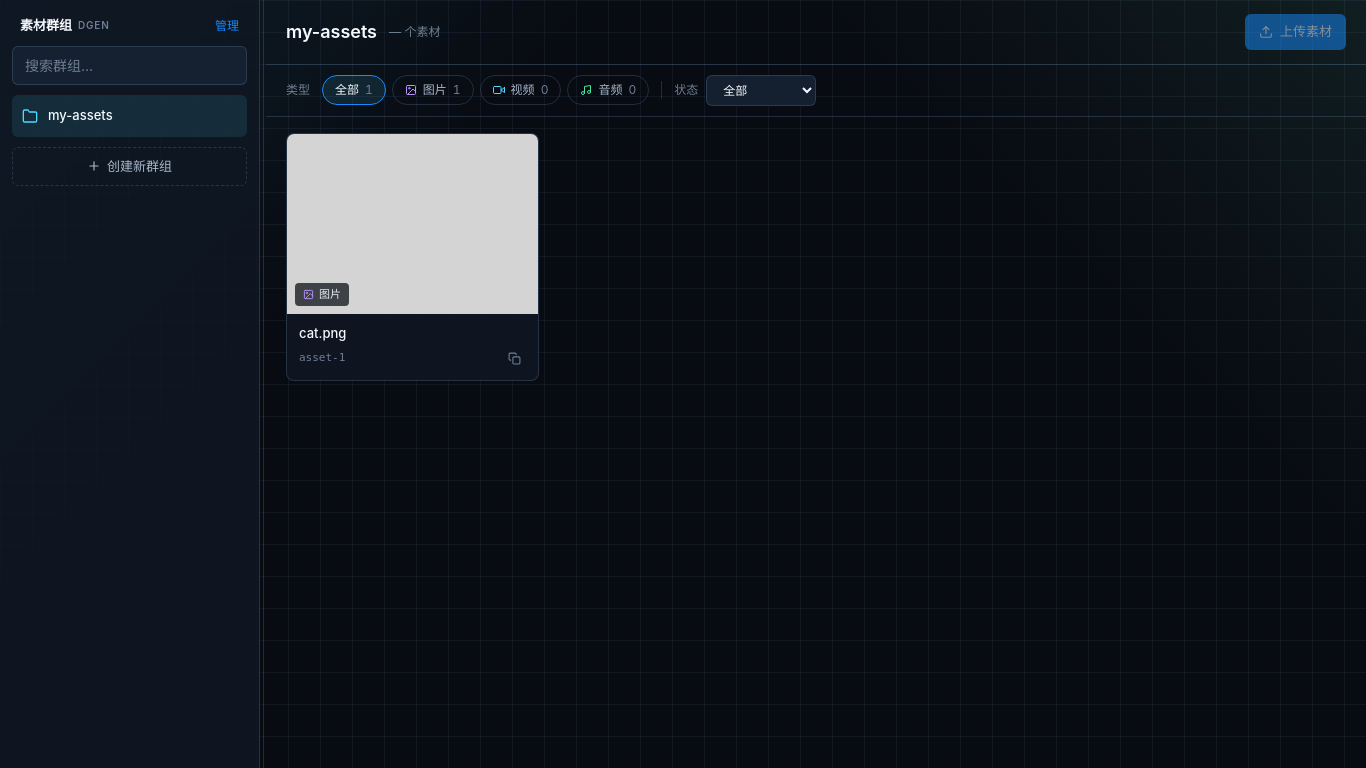
Test case: AssetLibraryPage — ActionPillBar (bottom-anchored selection bar) › shows ActionPillBar with selection badge when items are checked
The image size is (1366, 768).
Expected: the text "cat.png" is shown, [299, 324, 346, 340]
Click the checkbox with test id "asset-check".
click(412, 257)  # box [286, 132, 539, 381]
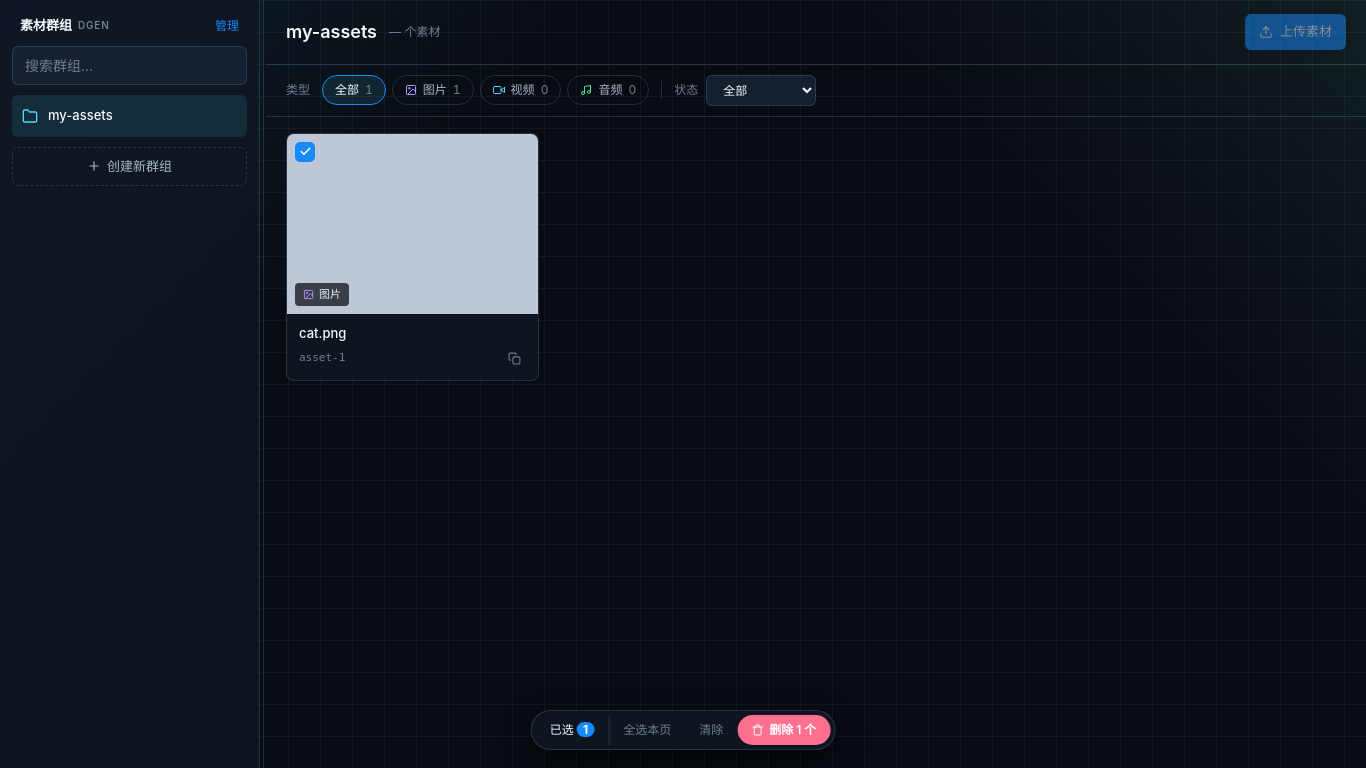
Result: the element showing "已选 1 全选本页 清除 删除 1 个" is shown at [531, 710, 835, 750]
Result: the text "已选 1" is shown at [536, 715, 609, 745]
Result: the button "全选本页" is shown at [609, 715, 685, 745]
